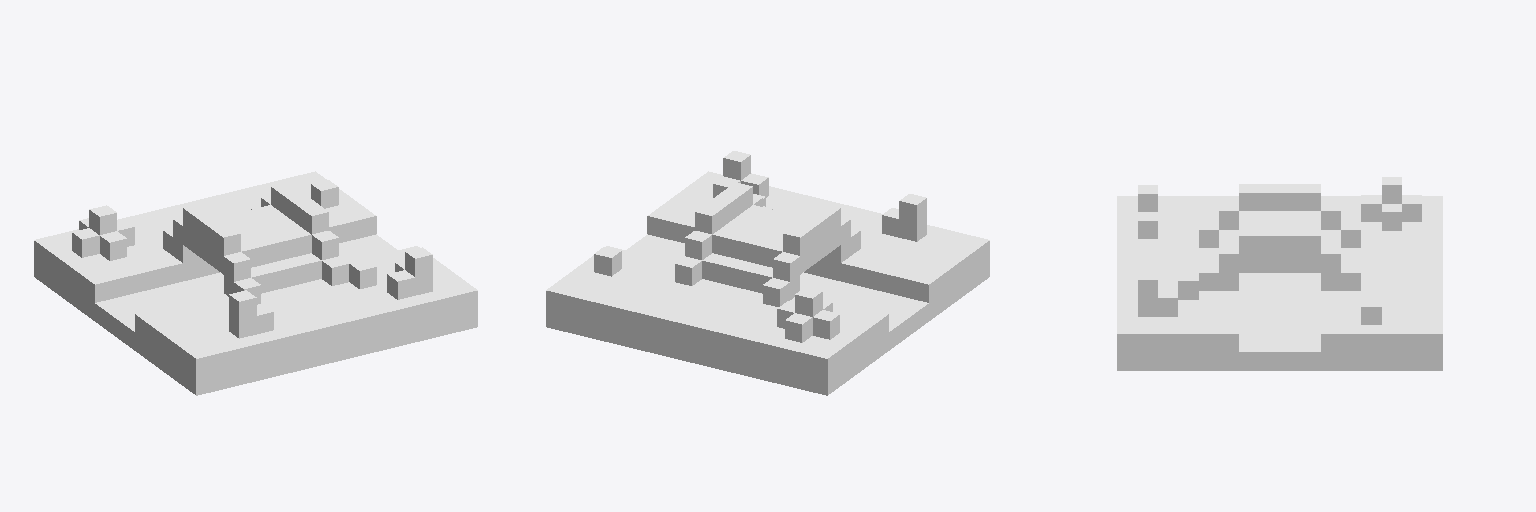
Rendered from River_bridge_1.obj.
The picture shows the model from 3 angles: view 1: azimuth 30°, elevation 25°; view 2: azimuth 150°, elevation 25°; view 3: azimuth 270°, elevation 25°; orthographic projection.
Parts seen in each view (by area): view 1: object 1; view 2: object 1; view 3: object 1.
Part boxes in pixels (bbox=[...]): object 1: bbox=[34, 171, 477, 395]; object 1: bbox=[546, 151, 989, 395]; object 1: bbox=[1117, 177, 1442, 370].
Bounding box in the file's own units: 1.6 × 0.5 × 1.6.